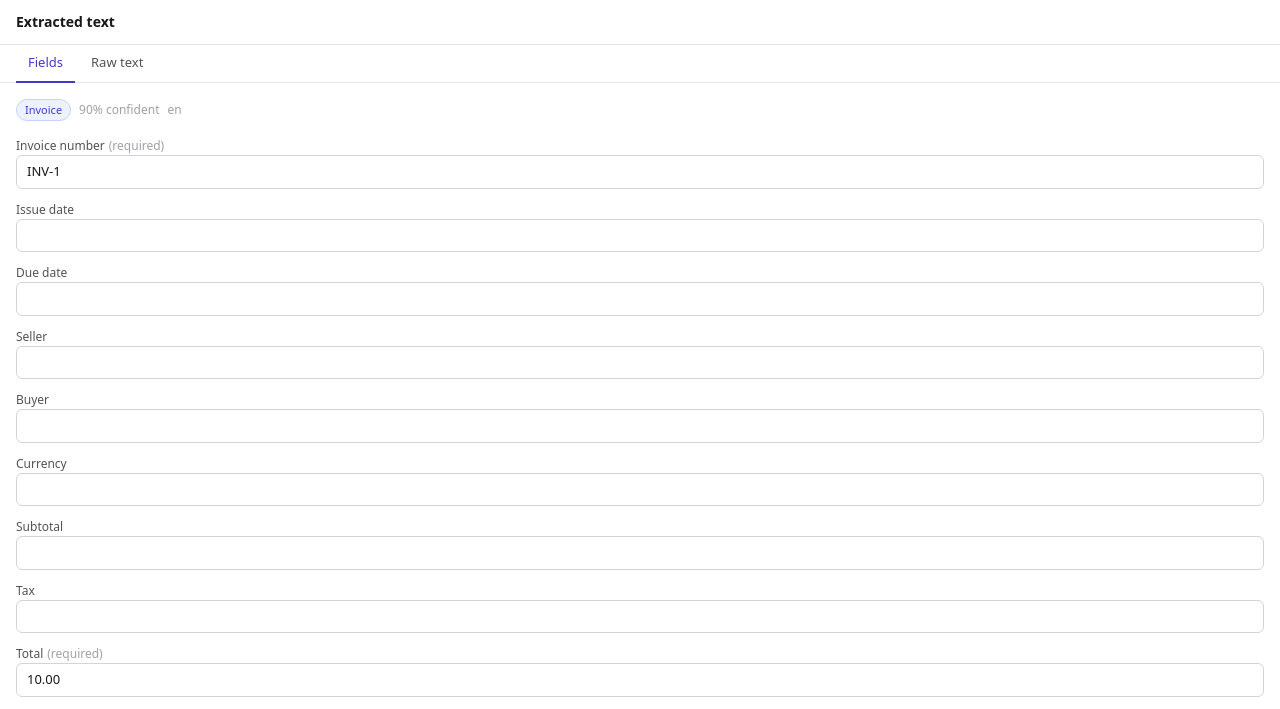
Test: ExtractionPanel tabs › switches to the raw text editor
The image size is (1280, 709).
Click the tab "Raw text" at (117, 64), box [79,45,155,82]
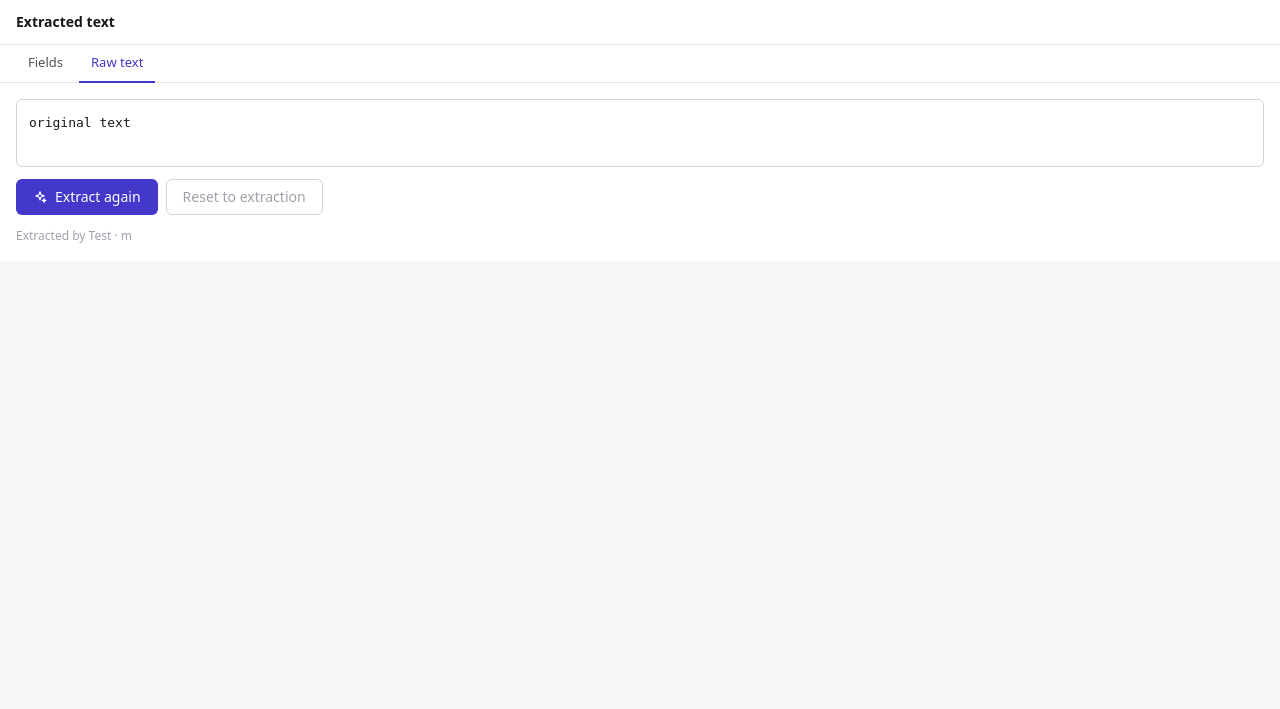
Expected: the panel holds "original text", [16,98,1264,167]
